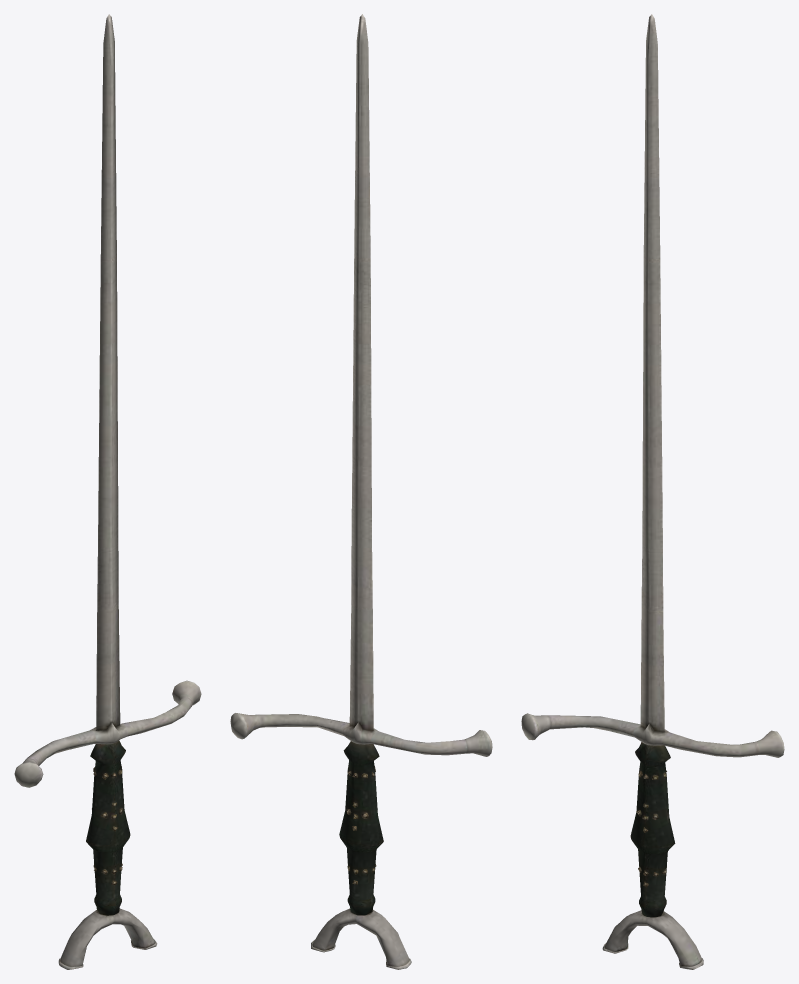
The model's file is sword-estoc.lite.5b5199f9.glb.
The picture shows the model from 3 angles, left to right: view 1: azimuth 30°, elevation 25°; view 2: azimuth 150°, elevation 25°; view 3: azimuth 330°, elevation 25°; orthographic projection.
Visible parts, largest first — view 1: model; view 2: model; view 3: model.
Boxes of the visible parts, <box> form: model: <box>14,14,201,969</box>; model: <box>230,14,492,969</box>; model: <box>521,14,784,969</box>.
Bounding box in the file's own units: 0.3715 × 1.49 × 0.1491.
1 material, 1 textured.
